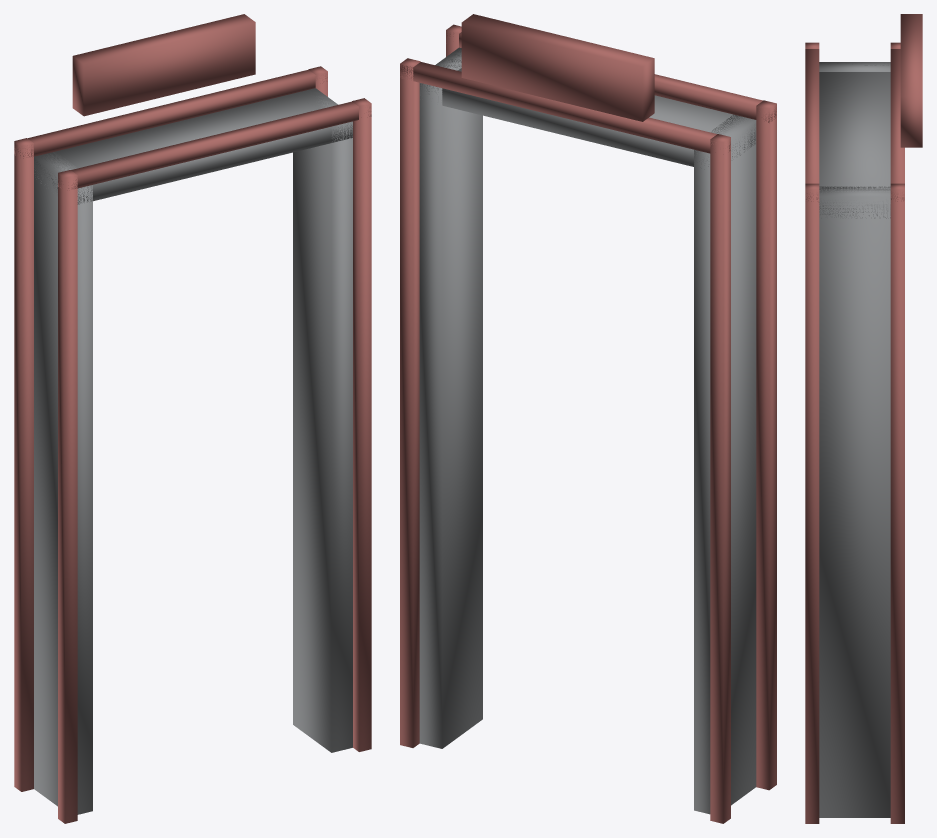
Rendered from doorway_emergency_exit_w86_h210_d24.glb.
3 views of the same model, side by side, from view 1: azimuth 30°, elevation 25°; view 2: azimuth 150°, elevation 25°; view 3: azimuth 270°, elevation 25° (orthographic). The views are drawn at different scales.
Visible parts, largest first — view 1: world; view 2: world; view 3: world.
Part boxes in pixels (x1=…): world: x1=14, y1=14, x2=371, y2=823; world: x1=400, y1=14, x2=776, y2=823; world: x1=805, y1=14, x2=922, y2=823.
Size of the model in its own units: 1.1 by 2.44 by 0.3733.
